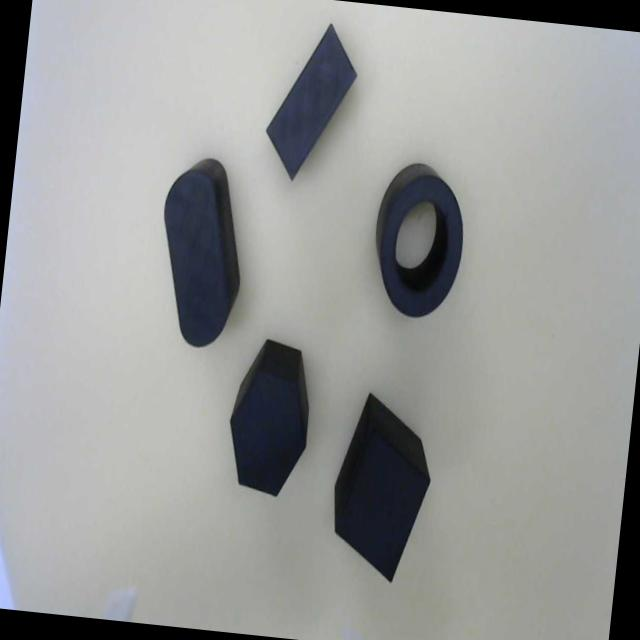hexagon: (219, 360, 315, 503)
oval: (160, 158, 232, 360)
rectangle: (264, 24, 356, 180)
ring: (371, 168, 471, 323)
square: (333, 425, 430, 583)
